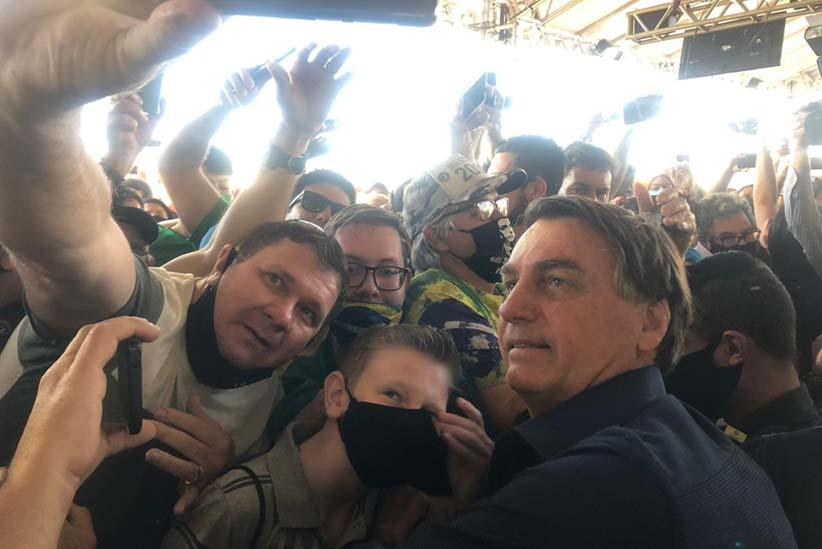mask_weared_incorrect: (196, 215, 348, 392), (321, 221, 416, 340)
without_mask: (490, 211, 680, 406)
